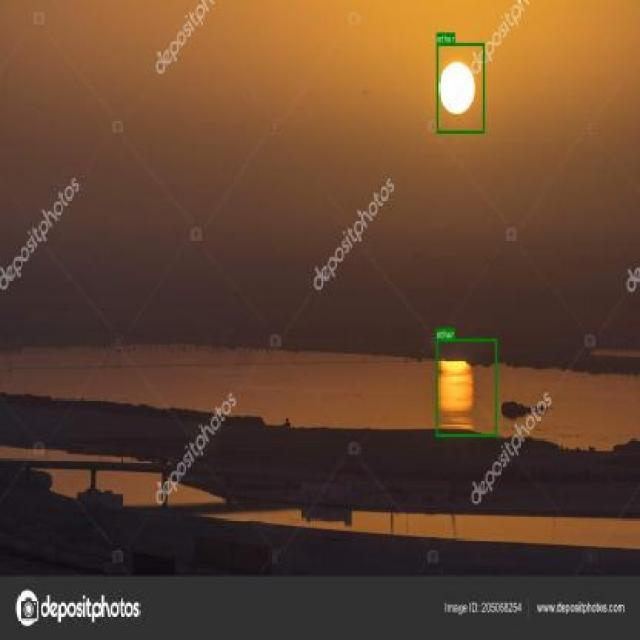other: (435, 338, 497, 437), (436, 42, 484, 133)
